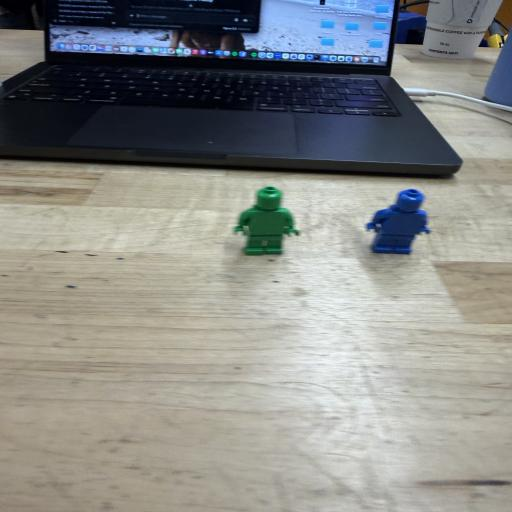blue-minifig: (367, 189, 430, 254)
green-minifig: (234, 186, 300, 255)
